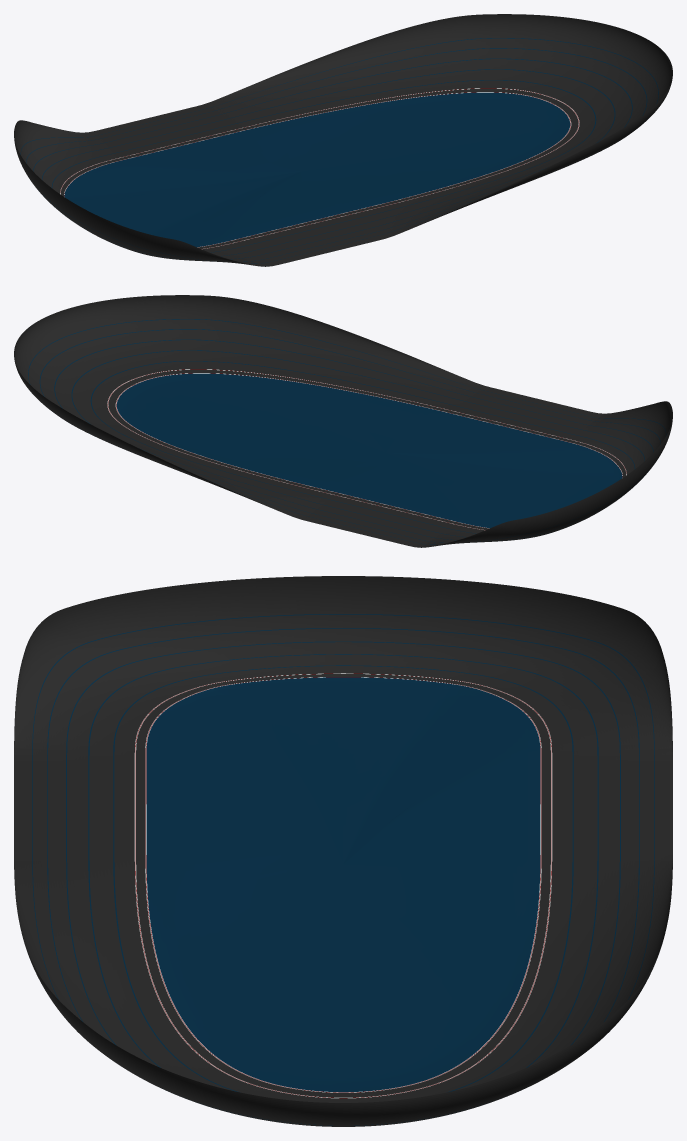
The model's file is thor.2.glb.
The picture shows the model from 3 angles, top to bottom: view 1: azimuth 30°, elevation 25°; view 2: azimuth 150°, elevation 25°; view 3: azimuth 270°, elevation 25°; orthographic projection. The views are drawn at different scales.
Parts seen in each view (by area): view 1: Torus; view 2: Torus; view 3: Torus.
Boxes of the visible parts, x1=… form: Torus: x1=14, y1=14, x2=672, y2=266; Torus: x1=14, y1=295, x2=672, y2=547; Torus: x1=14, y1=576, x2=672, y2=1126.
Bounding box in the file's own units: 757 × 49.87 × 400.
